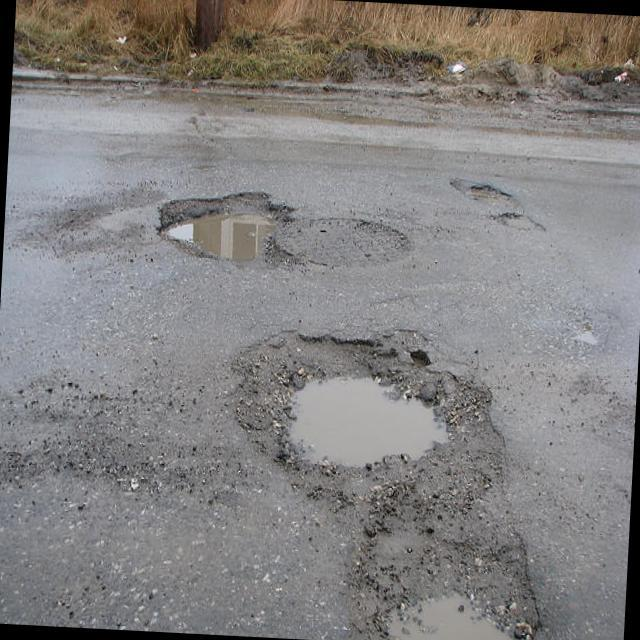Pothole: (238, 311, 495, 512), (330, 487, 595, 640), (128, 156, 308, 294), (442, 166, 547, 238)
